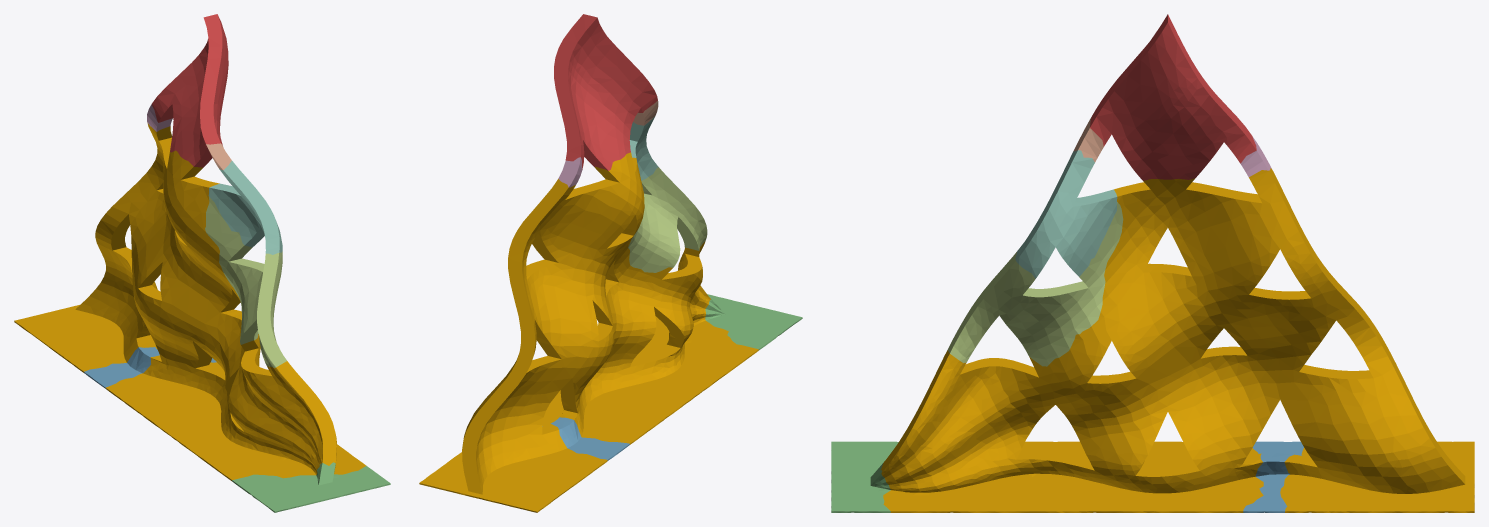
File: fractured_1_8pcs.glb
3 views of the same model, side by side, from view 1: azimuth 30°, elevation 25°; view 2: azimuth 150°, elevation 25°; view 3: azimuth 270°, elevation 25° (orthographic). The views are drawn at different scales.
Visible parts, largest first — view 1: piece_0.obj, piece_1.obj, piece_5.obj, piece_3.obj, piece_4.obj, piece_2.obj; view 2: piece_0.obj, piece_1.obj, piece_5.obj, piece_3.obj, piece_2.obj, piece_4.obj, piece_6.obj; view 3: piece_0.obj, piece_1.obj, piece_5.obj, piece_4.obj, piece_3.obj, piece_2.obj.
Boxes of the visible parts, x1,y1,x2,y2 form: piece_0.obj: [14, 123, 366, 480]; piece_1.obj: [151, 14, 228, 167]; piece_5.obj: [205, 196, 286, 368]; piece_3.obj: [232, 462, 390, 512]; piece_4.obj: [208, 161, 282, 254]; piece_2.obj: [84, 347, 216, 388]; piece_0.obj: [419, 152, 758, 512]; piece_1.obj: [554, 14, 657, 170]; piece_5.obj: [628, 167, 707, 272]; piece_3.obj: [705, 294, 802, 350]; piece_2.obj: [542, 417, 629, 460]; piece_4.obj: [629, 116, 658, 180]; piece_6.obj: [558, 157, 582, 187]; piece_0.obj: [881, 168, 1474, 512]; piece_1.obj: [1090, 14, 1256, 180]; piece_5.obj: [947, 202, 1123, 366]; piece_4.obj: [1015, 150, 1117, 278]; piece_3.obj: [831, 441, 898, 512]; piece_2.obj: [1243, 441, 1303, 512].
Bounding box in the file's own units: 0.2564 × 0.8033 × 1.
